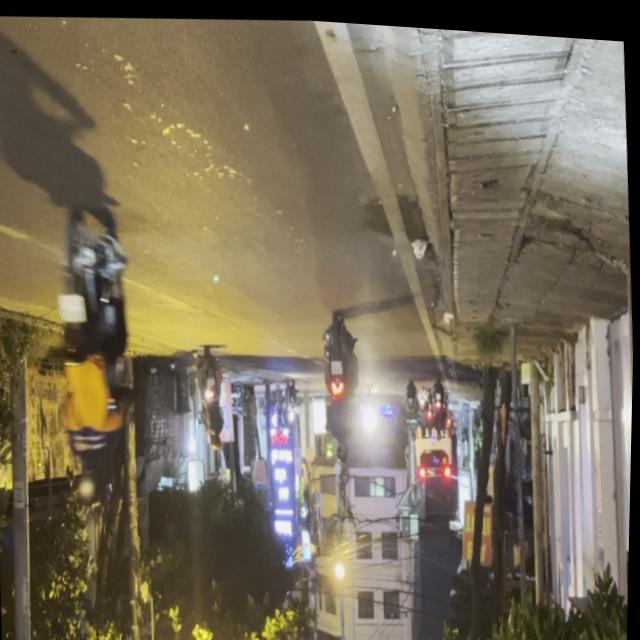helmet: (73, 458, 102, 508)
licenseplate: (46, 199, 145, 515)
nohelmet: (58, 293, 87, 324)
